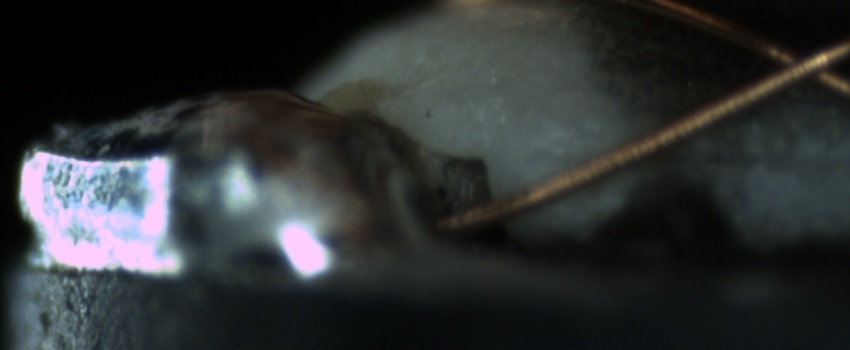CL: (729, 23, 850, 116)
DL: (535, 126, 837, 187)
